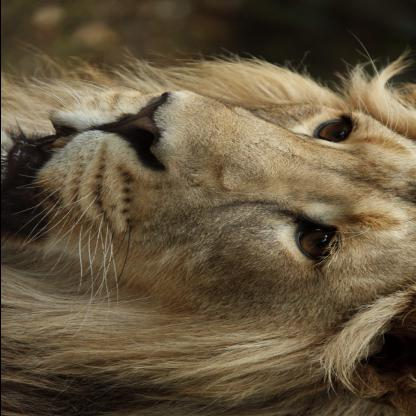lion: (1, 55, 413, 350)
